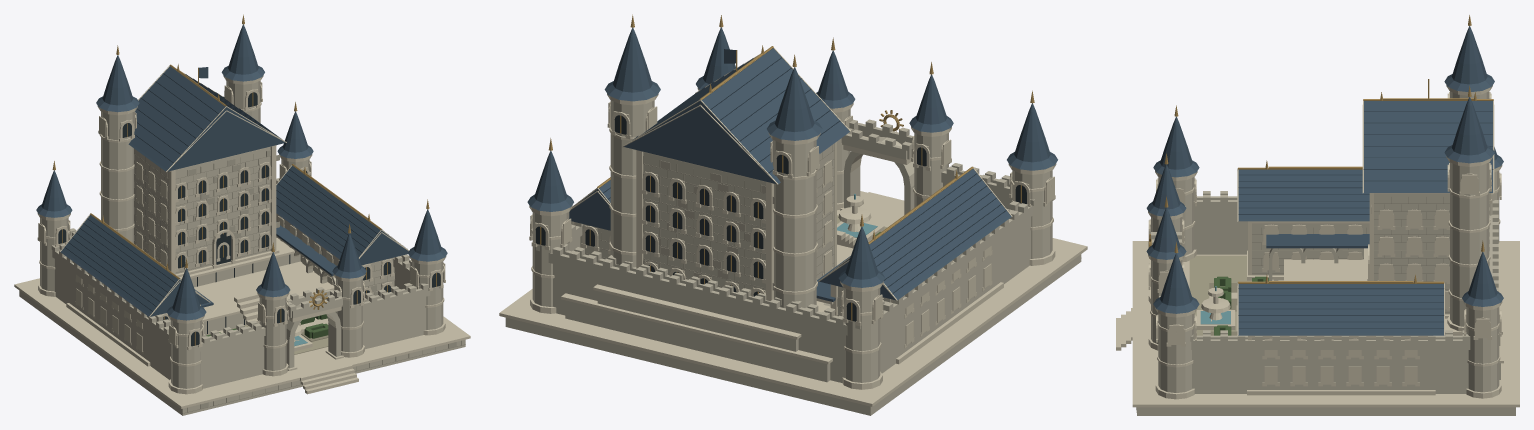
File: river.glb
3 views of the same model, side by side, from view 1: azimuth 30°, elevation 25°; view 2: azimuth 150°, elevation 25°; view 3: azimuth 270°, elevation 25° (orthographic). The views are drawn at different scales.
Visible parts, largest first — view 1: citadel, citadel-roof, precinct-base, inhabited-detail; view 2: citadel, citadel-roof, precinct-base; view 3: citadel, citadel-roof, precinct-base, inhabited-detail.
Part boxes in pixels (box(x1,y1,x2,y2)): citadel: box(37, 67, 446, 394); citadel-roof: box(36, 14, 447, 320); precinct-base: box(14, 278, 470, 415); inhabited-detail: box(183, 341, 465, 413); citadel: box(529, 49, 1056, 389); citadel-roof: box(527, 14, 1057, 301); precinct-base: box(499, 191, 1087, 415); citadel: box(1148, 79, 1503, 399); citadel-roof: box(1146, 15, 1503, 335); precinct-base: box(1132, 241, 1519, 415); inhabited-detail: box(1116, 308, 1136, 412).
Bounding box in the file's own units: 23.5 × 19.18 × 24.52.
